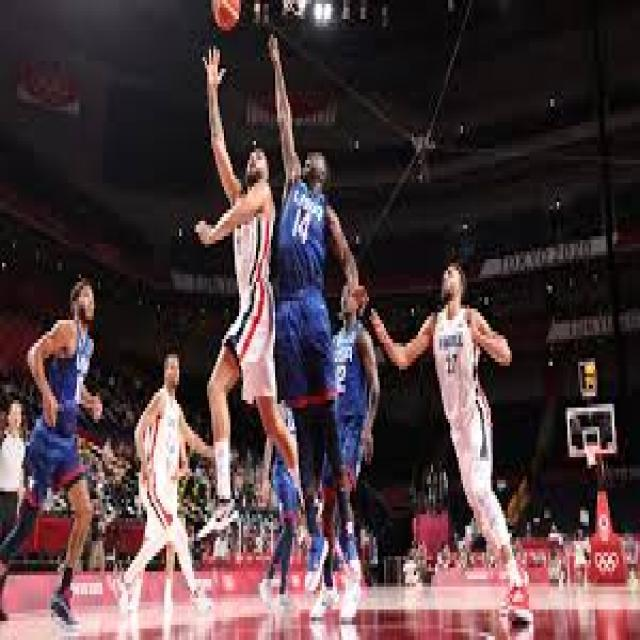rim: (213, 0, 243, 30)
